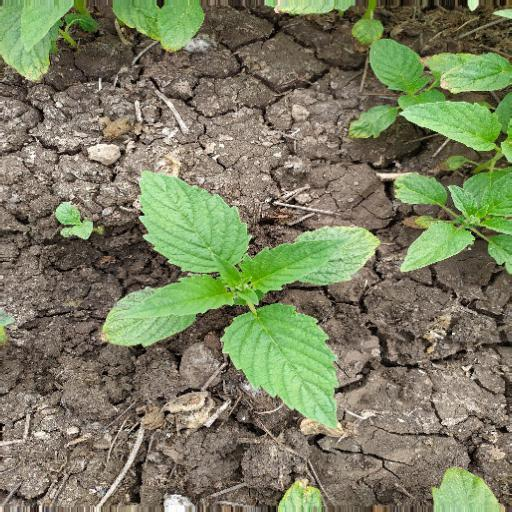crop: (90, 170, 377, 439), (344, 36, 512, 285)
